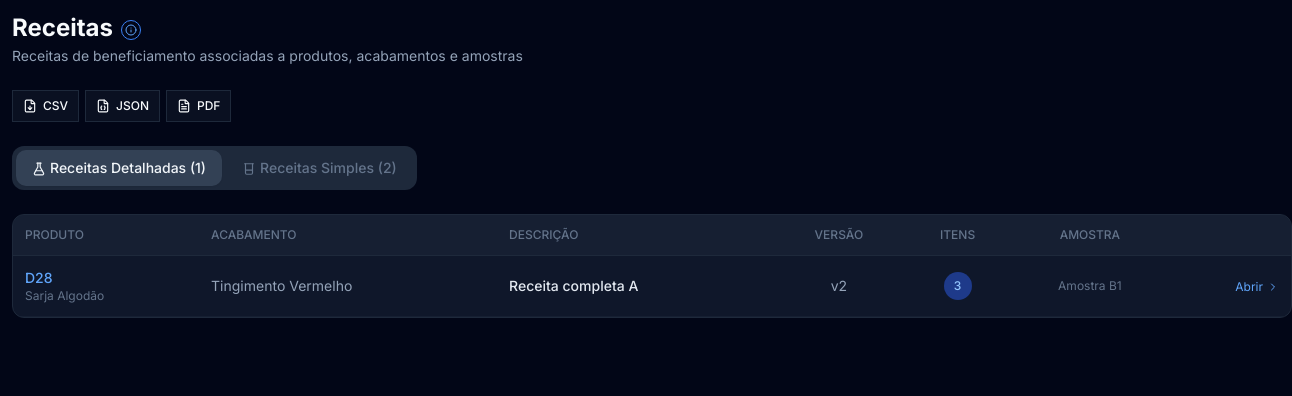
Test: ListaReceitasPage › alterna para a aba de receitas simples
Expected: the link "D28" is shown, top-left (25, 269), bottom-right (52, 286)
Click the button "Receitas Simples (2)" at [319, 168], box top-left (226, 150), bottom-right (413, 186)
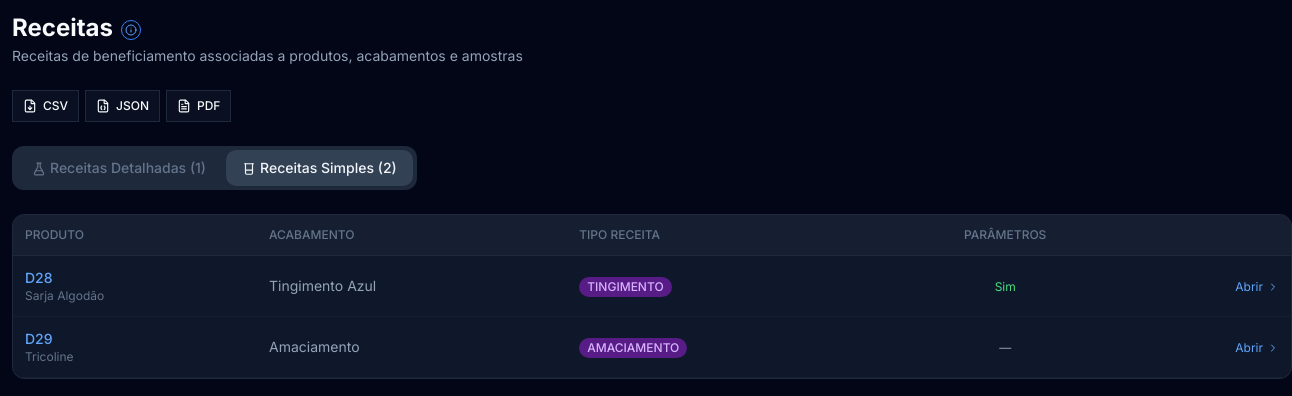
Result: the text "TINGIMENTO" is shown at top-left (579, 276), bottom-right (672, 296)
Result: the text "Sim" is shown at top-left (995, 279), bottom-right (1016, 294)
Result: the text "AMACIAMENTO" is shown at top-left (579, 338), bottom-right (687, 358)
